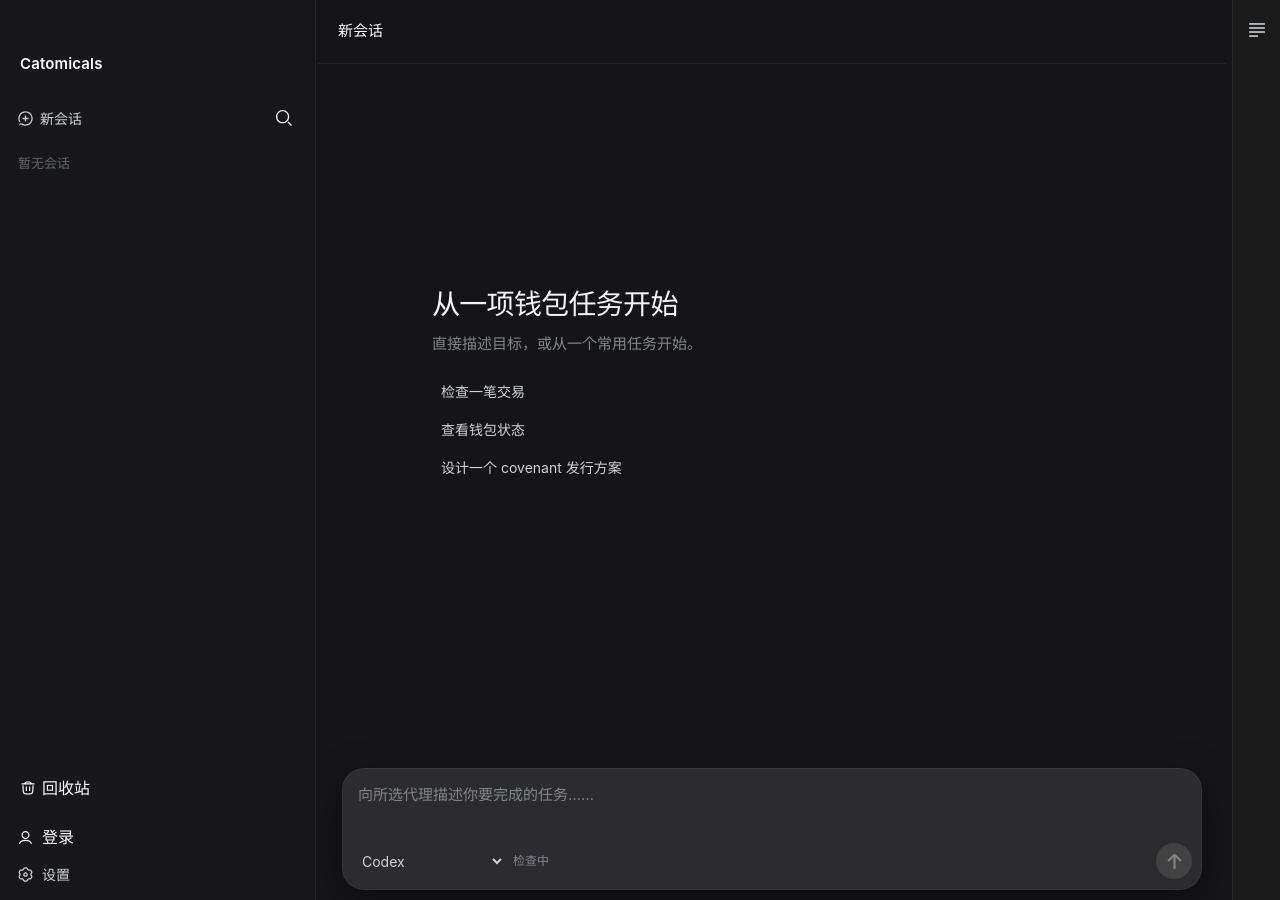
session-backed conversation › auto-creates a session, appends canonical JSONL events, and renders the transcript
Type "在不在" into the text box with placeholder "向所选代理描述你要完成的任务……" at (772, 805), box [343,769,1201,841]
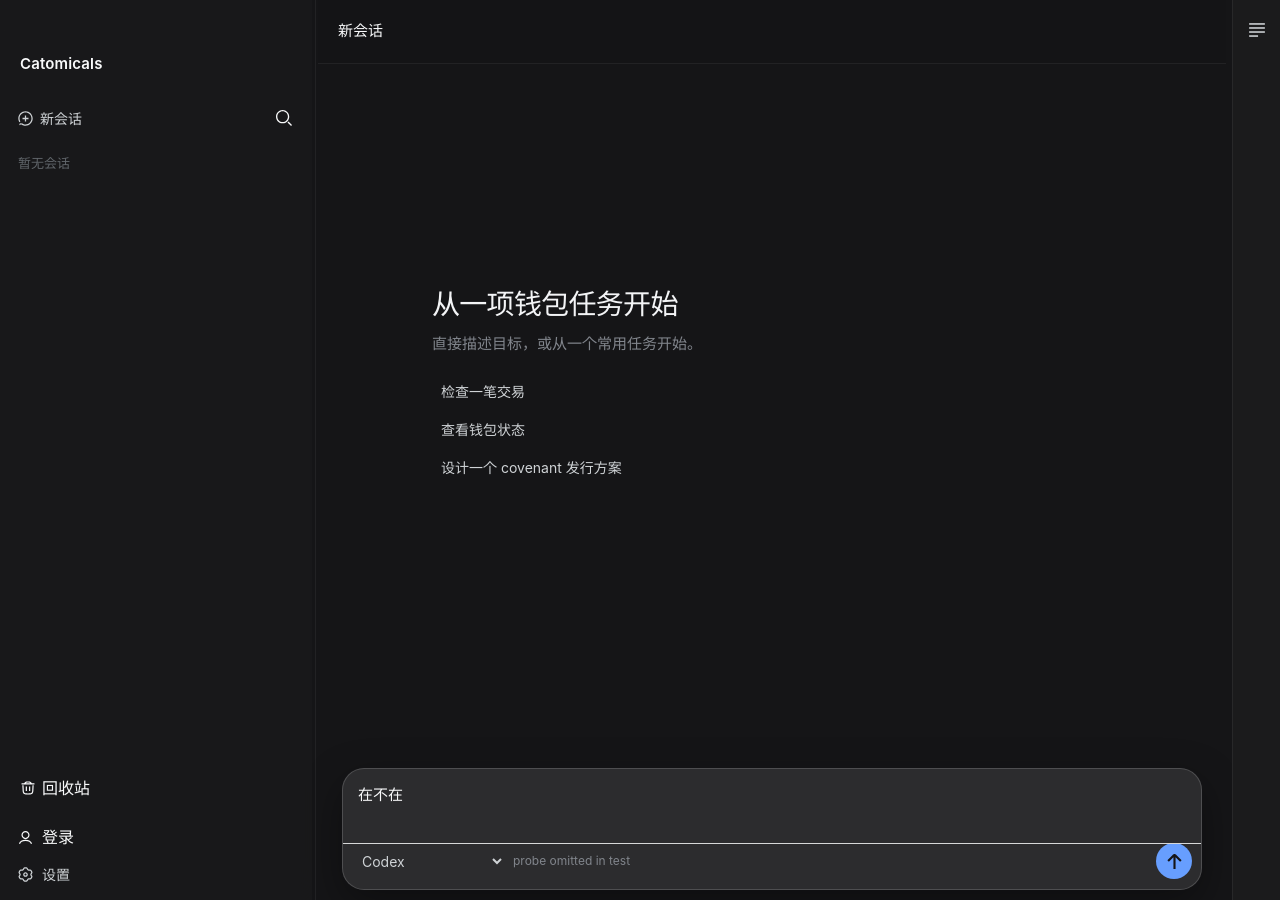
Click the button named "发送消息" at (1174, 861), box [1156,843,1192,879]
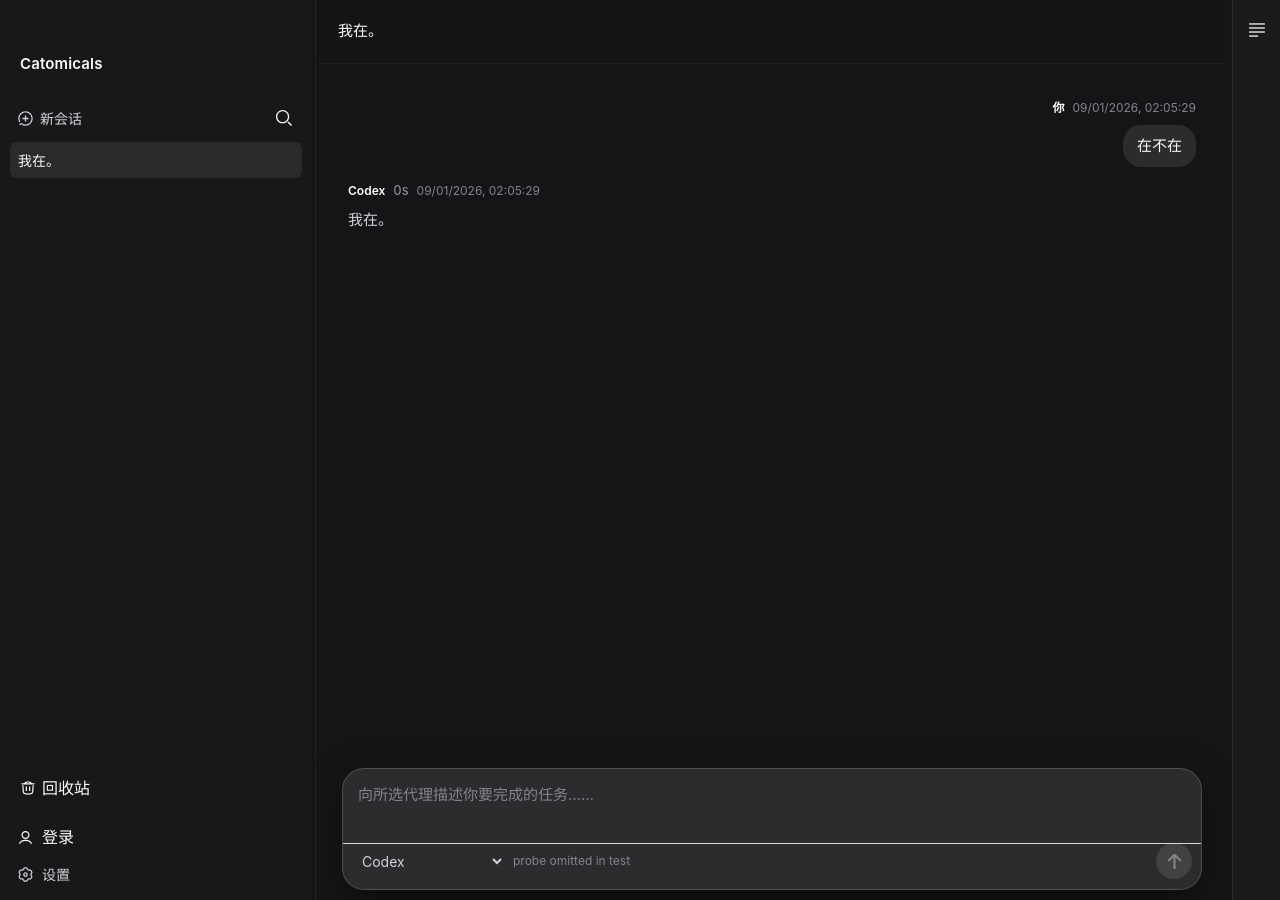
Result: the element showing "Codex 0s 09/01/2026, 02:05:29 我在。" is shown at [348,182,540,228]
Result: the text "在不在" is shown at [1137,134,1182,158]
Result: the 2nd text "我在。" is shown at [18,150,60,170]
